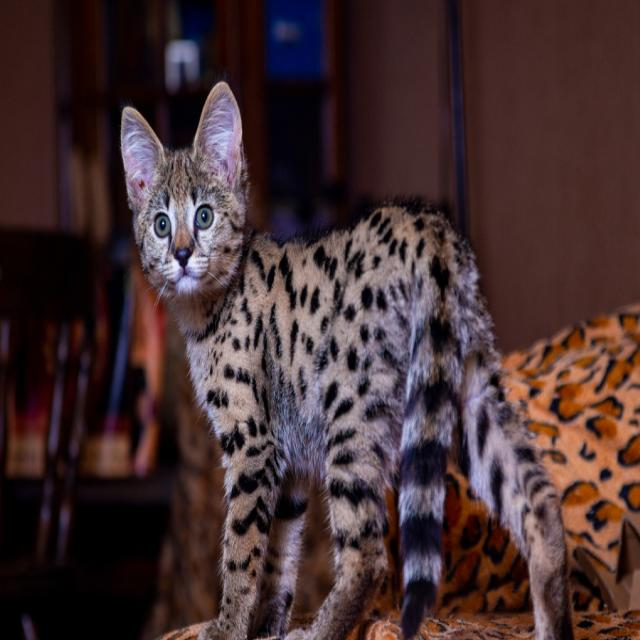Savannah: (115, 74, 577, 640)
